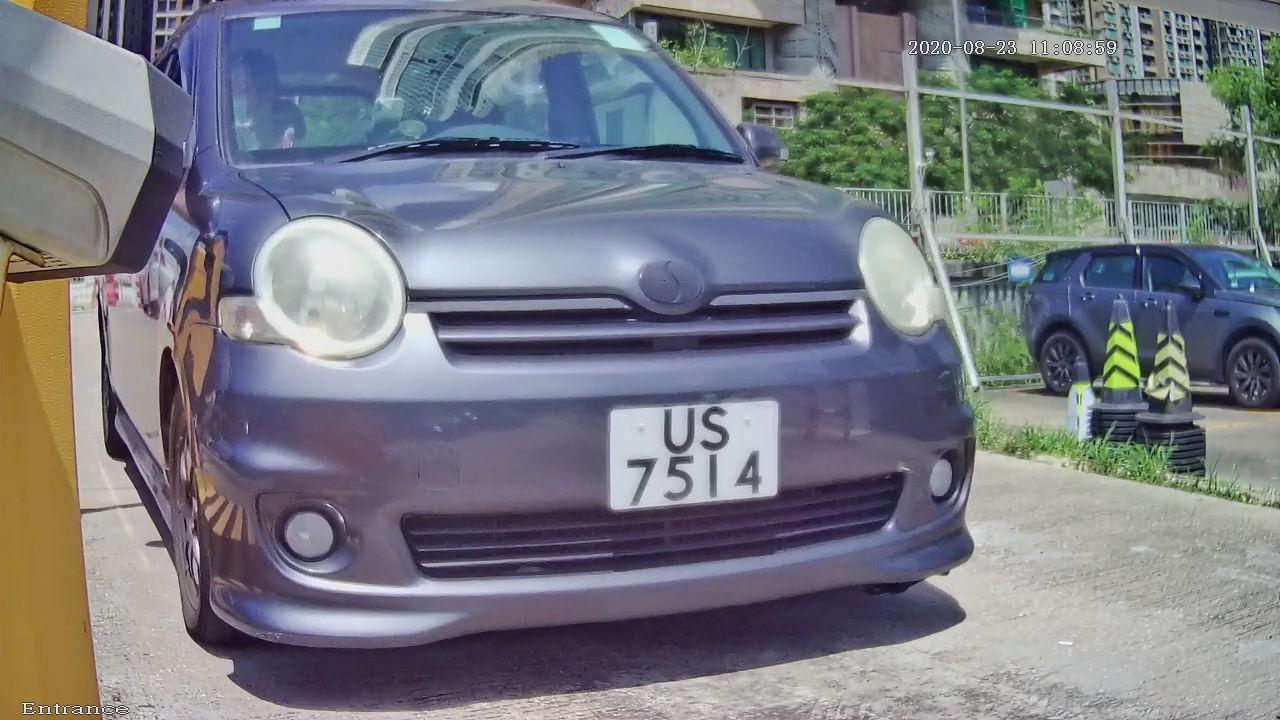Car: (58, 7, 1063, 704)
License Plate: (589, 383, 801, 524)
